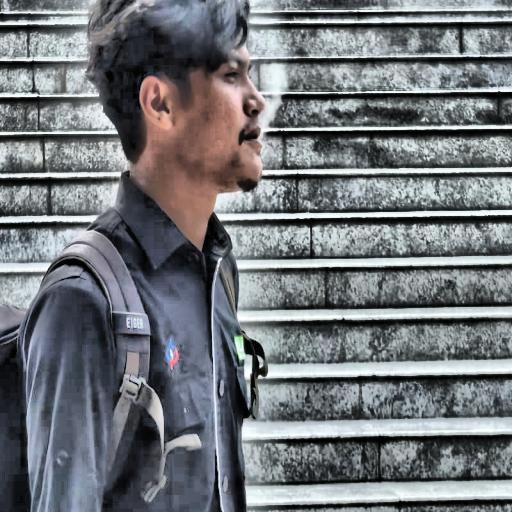Merokok: (129, 46, 283, 247)
